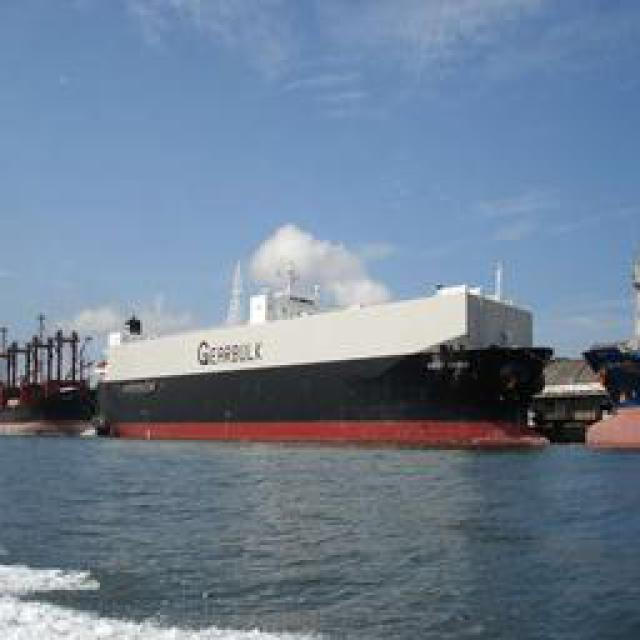Ship: (105, 286, 548, 446)
